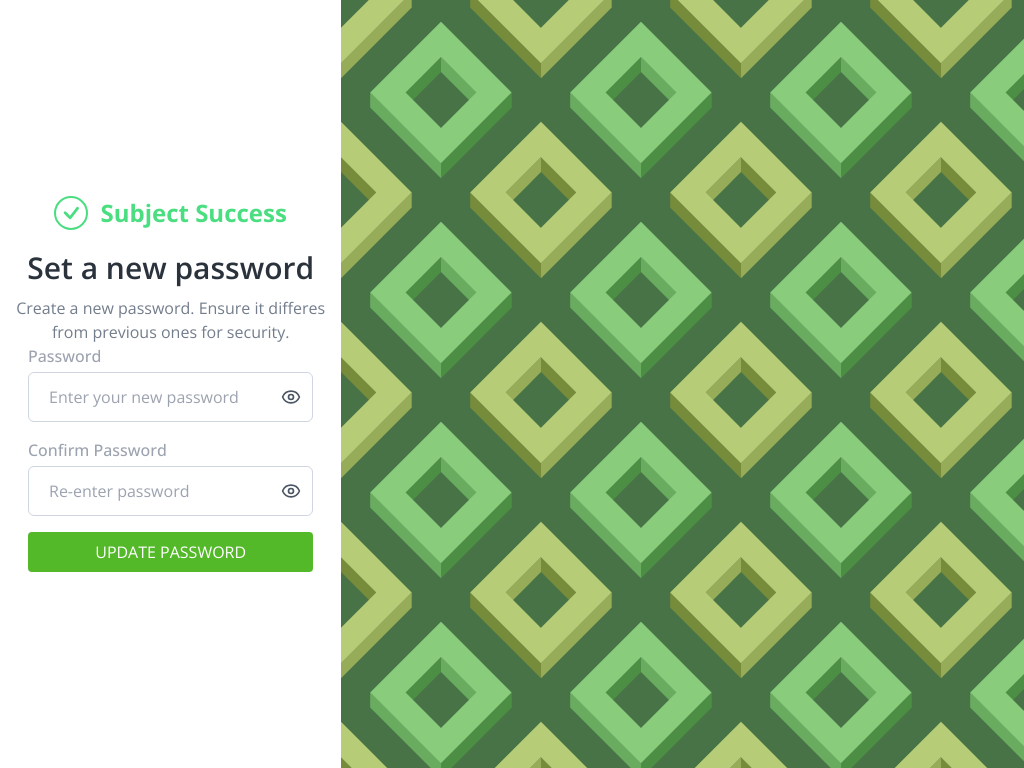
Test: Reset Password Test › shold display error when one of password is to short
Step 1. Type "123" into the password field labelled "Password" → (171, 397), box [28,372,313,422]
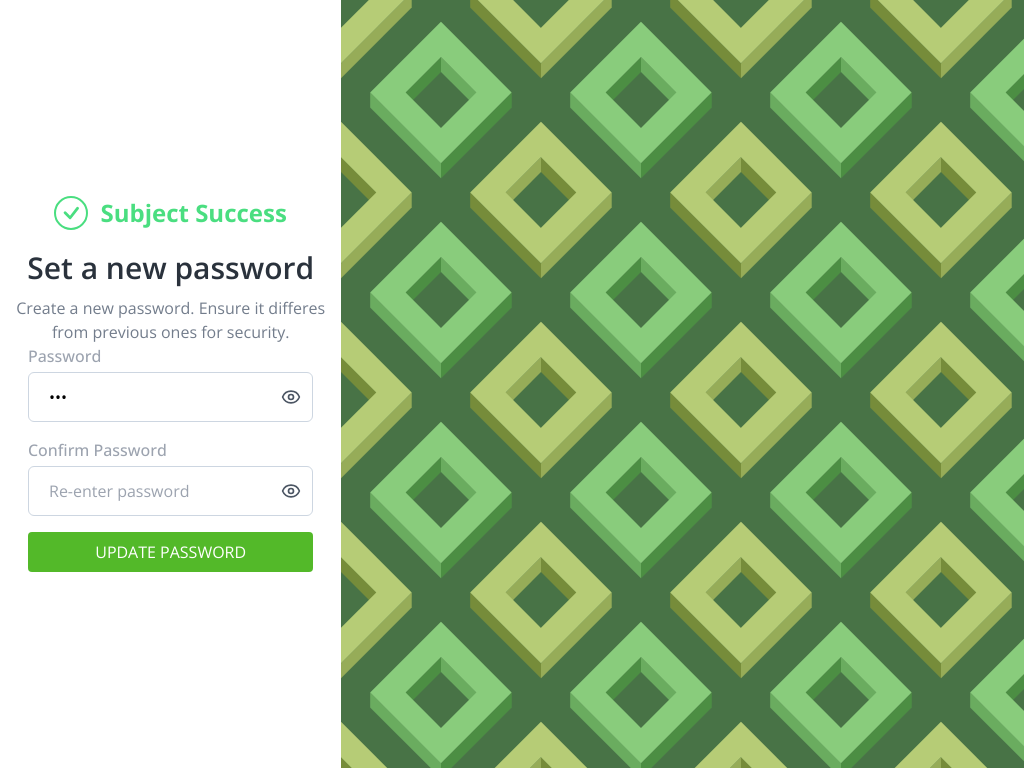
Step 2. Click the password field labelled "Confirm Password" → (171, 491), box [28,466,313,516]
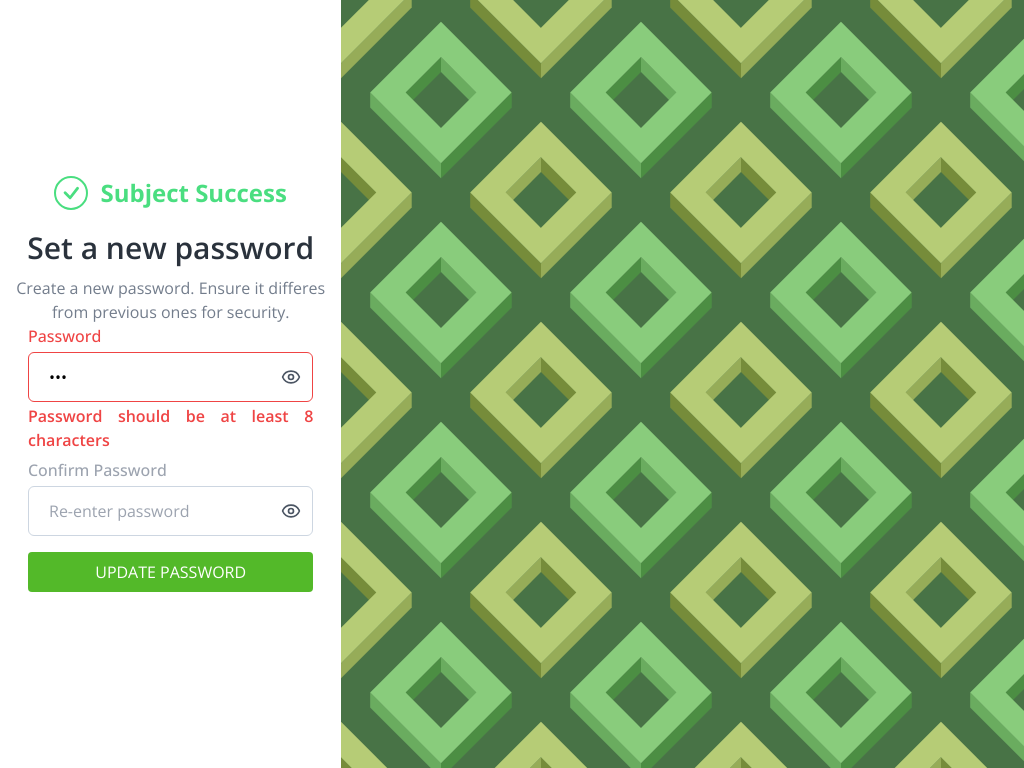
Check: the text "Password should be at least 8 characters" is shown, box [28,404,313,452]
